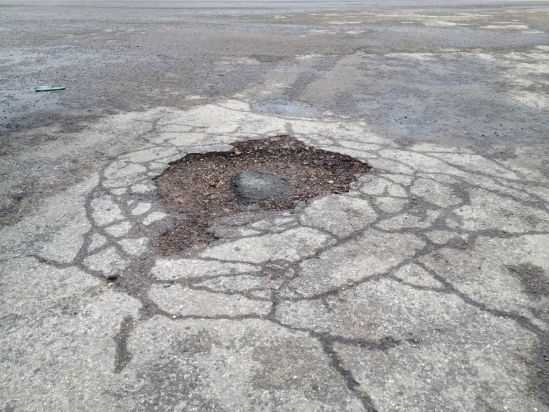pothole: (148, 130, 375, 253)
